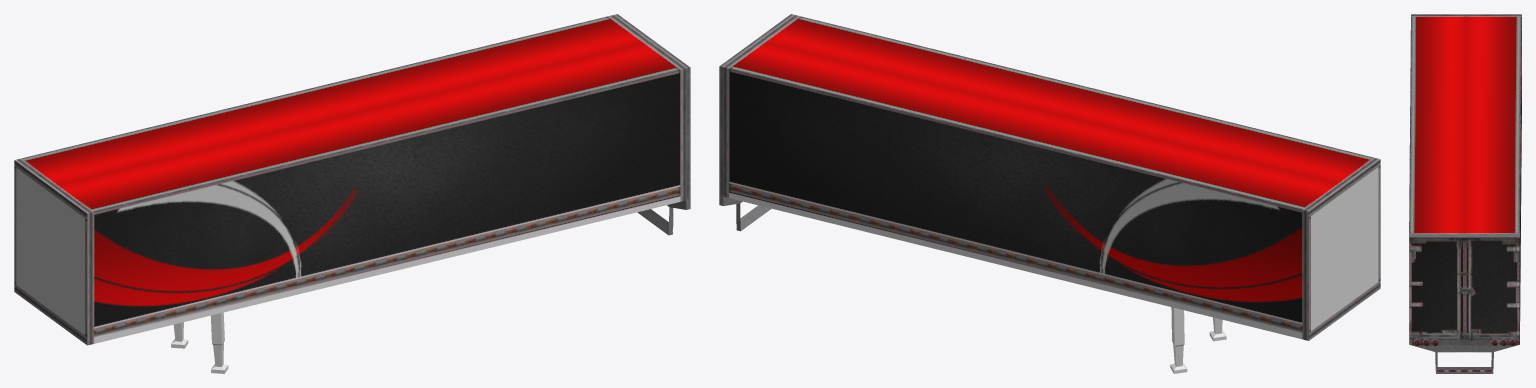
File: container.FBX
3 views of the same model, side by side, from view 1: azimuth 30°, elevation 25°; view 2: azimuth 150°, elevation 25°; view 3: azimuth 270°, elevation 25° (orthographic). The views are drawn at different scales.
Parts seen in each view (by area): view 1: Container_Truck, Group001; view 2: Container_Truck, Group001; view 3: Container_Truck.
Boxes of the visible parts, x1,y1,x2,y2 form: Container_Truck: (14,14,690,345); Group001: (171,312,228,373); Container_Truck: (719,14,1380,340); Group001: (1170,307,1226,373); Container_Truck: (1409,14,1521,373).
Size of the model in its own units: 18.83 by 6.27 by 4.01.
